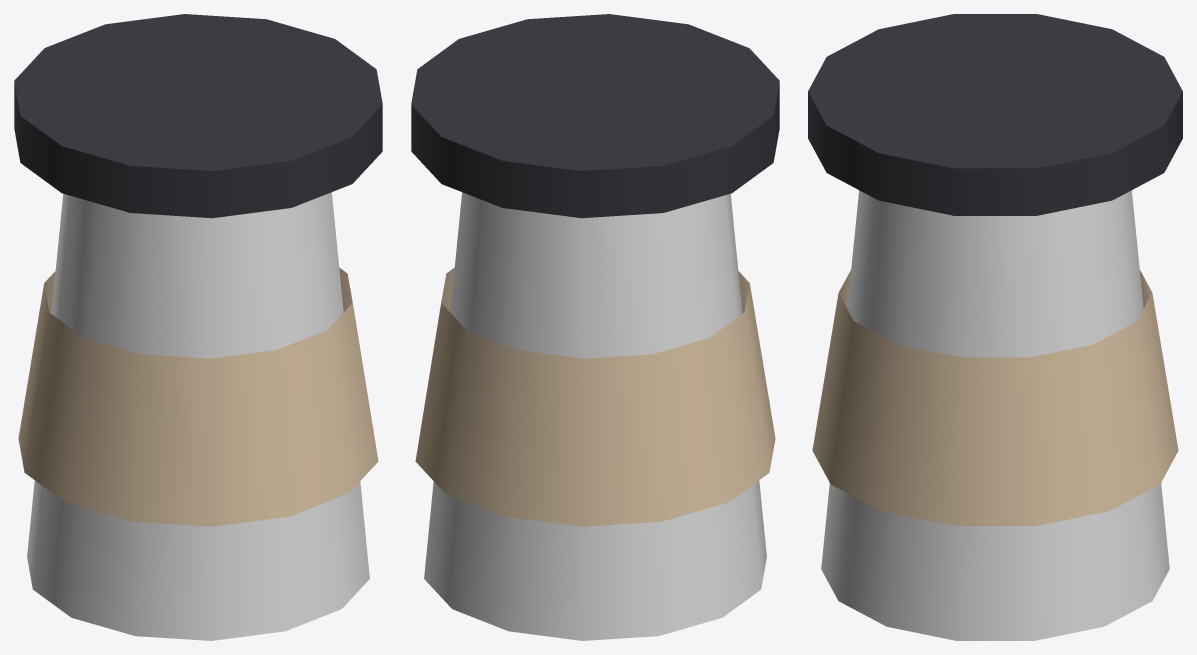
File: coffee_cup.glb
The picture shows the model from 3 angles, left to right: view 1: azimuth 30°, elevation 25°; view 2: azimuth 150°, elevation 25°; view 3: azimuth 270°, elevation 25°; orthographic projection.
Parts seen in each view (by area): view 1: coffee_cup; view 2: coffee_cup; view 3: coffee_cup.
Part boxes in pixels (left/top/right/bottom): coffee_cup: left=14, top=14, right=382, bottom=640; coffee_cup: left=411, top=14, right=779, bottom=640; coffee_cup: left=808, top=14, right=1182, bottom=640.
Size of the model in its own units: 0.0838 by 0.121 by 0.086.
